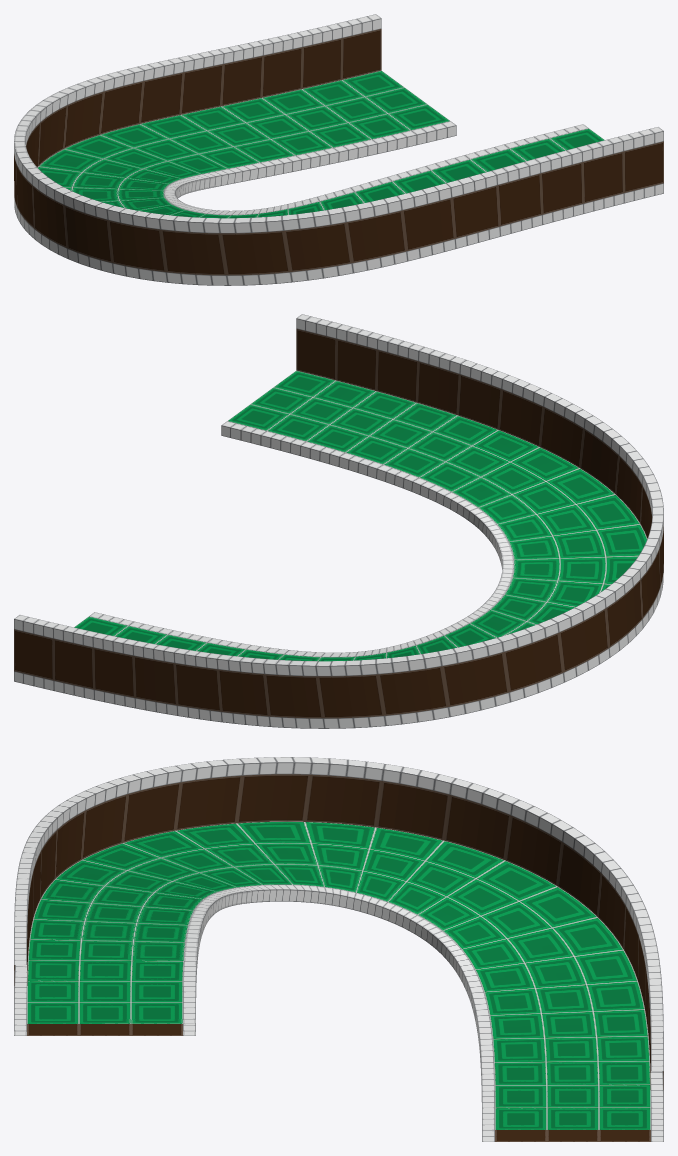
File: SlopeMomentum_BMCurve1.obj
3 views of the same model, one above another, from view 1: azimuth 30°, elevation 25°; view 2: azimuth 150°, elevation 25°; view 3: azimuth 270°, elevation 25° (orthographic). The views are drawn at different scales.
Parts seen in each view (by area): view 1: Cube_Cube.001; view 2: Cube_Cube.001; view 3: Cube_Cube.001.
Boxes of the visible parts, x1,y1,x2,y2 form: Cube_Cube.001: (14, 14, 663, 285); Cube_Cube.001: (14, 314, 663, 728); Cube_Cube.001: (14, 757, 663, 1141).
Bounding box in the file's own units: 23.57 × 7.5 × 25.
